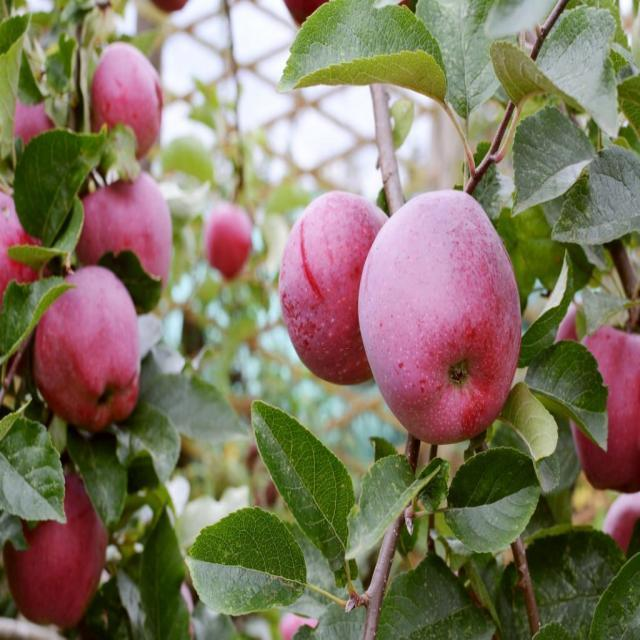Red Apple: (364, 195, 517, 430), (279, 202, 392, 380), (34, 281, 145, 432), (20, 474, 111, 617), (81, 177, 175, 289), (578, 322, 640, 489), (93, 49, 160, 146), (1, 191, 38, 294), (209, 210, 251, 272), (602, 491, 640, 557), (17, 92, 50, 143), (289, 1, 334, 25), (289, 614, 322, 640), (155, 1, 189, 17)
